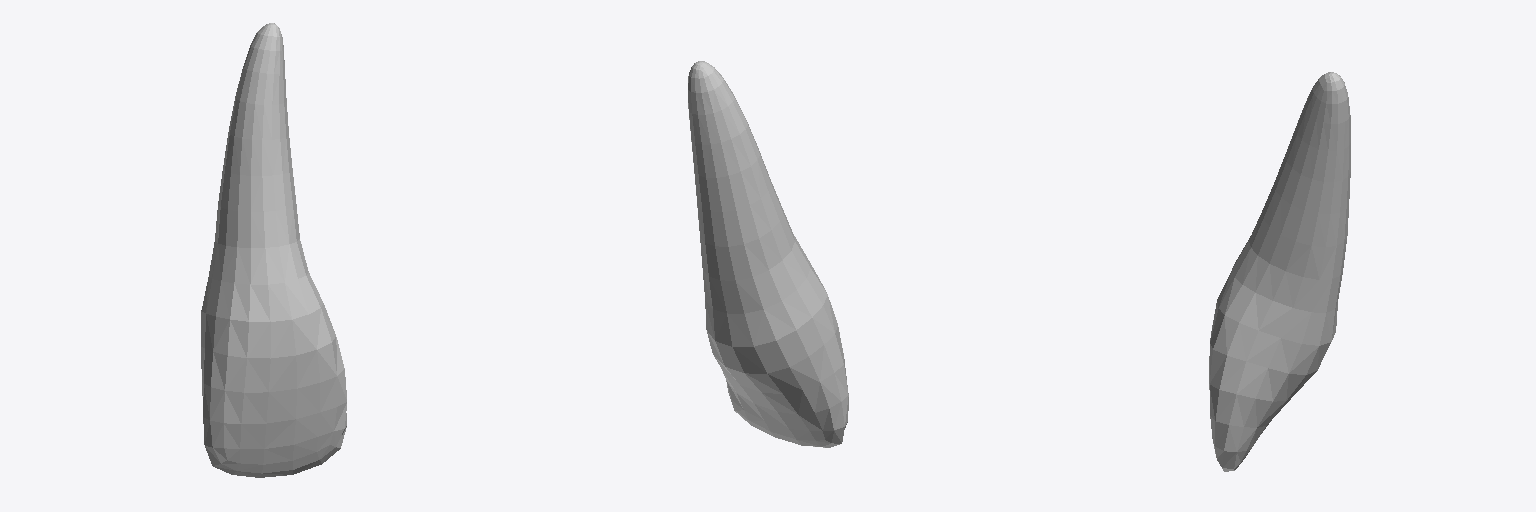
File: tooth_0.obj
3 views of the same model, side by side, from view 1: azimuth 30°, elevation 25°; view 2: azimuth 150°, elevation 25°; view 3: azimuth 270°, elevation 25° (orthographic).
Visible parts, largest first — view 1: mmGroup0; view 2: mmGroup0; view 3: mmGroup0.
Part boxes in pixels (left/top/right/bottom): mmGroup0: left=201, top=23, right=346, bottom=477; mmGroup0: left=688, top=61, right=848, bottom=447; mmGroup0: left=1209, top=72, right=1350, bottom=471.
Bounding box in the file's own units: 2.54 × 7.67 × 2.44.